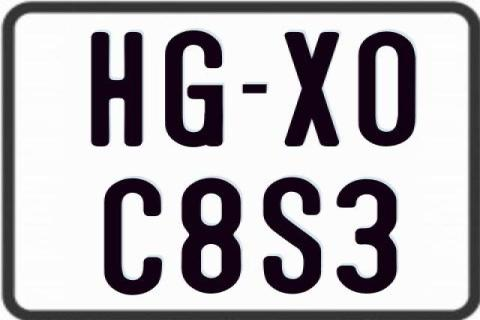0: (181, 176, 245, 294), (337, 179, 399, 296), (356, 30, 416, 146)
C: (104, 176, 162, 293)
G: (162, 30, 224, 148)
H: (88, 30, 146, 148)
S: (262, 176, 326, 294)
X: (284, 32, 344, 148)
